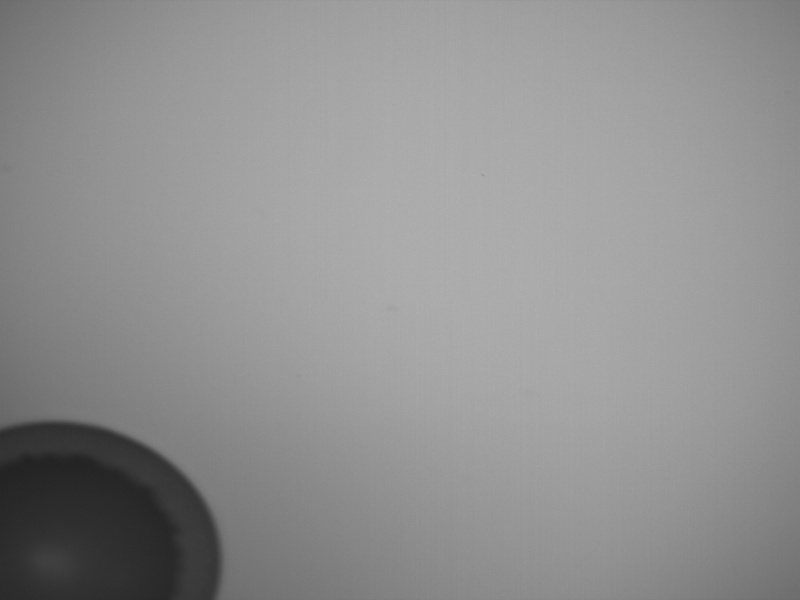bead: (1, 420, 223, 600)
